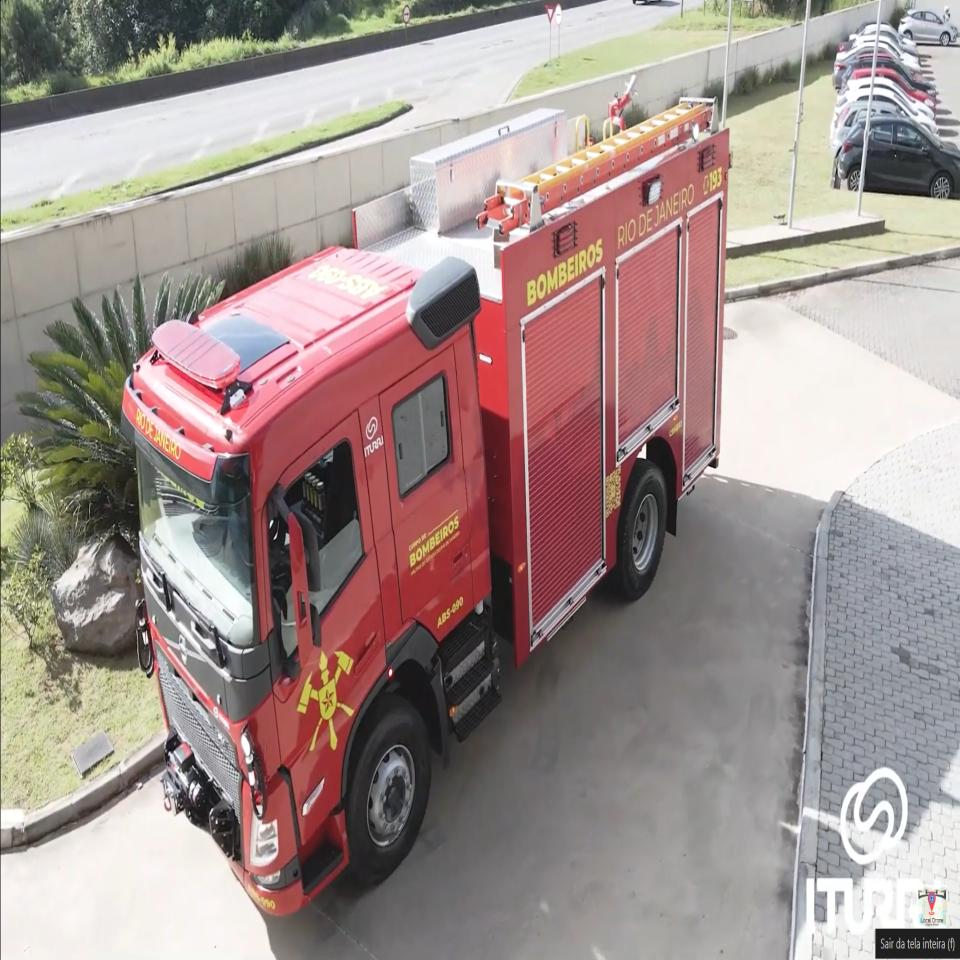viatura: (122, 71, 736, 915)
